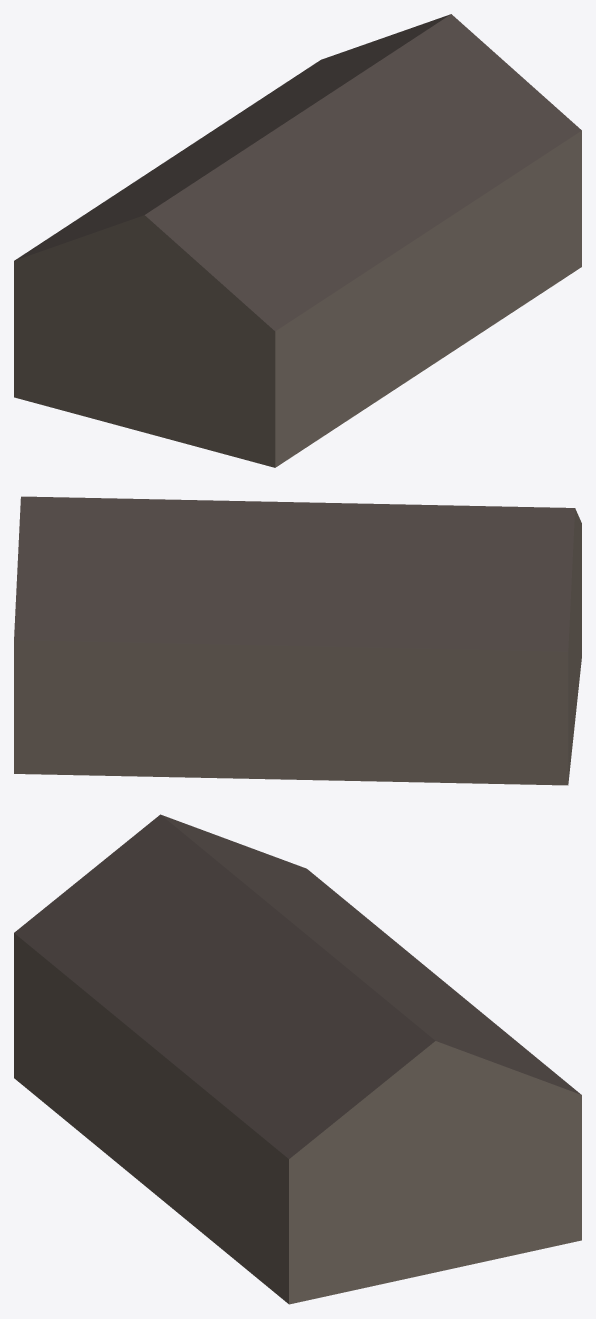
3 views of the same model, one above another, from view 1: azimuth 30°, elevation 25°; view 2: azimuth 150°, elevation 25°; view 3: azimuth 270°, elevation 25° (orthographic). The views are drawn at different scales.
Parts seen in each view (by area): view 1: HP-w859457366; view 2: HP-w859457366; view 3: HP-w859457366.
Part boxes in pixels (box(x1,y1,x2,y2)): HP-w859457366: box(14, 14, 581, 467); HP-w859457366: box(14, 496, 581, 785); HP-w859457366: box(14, 814, 581, 1304).
Size of the model in its own units: 25.75 by 9.57 by 21.27.
